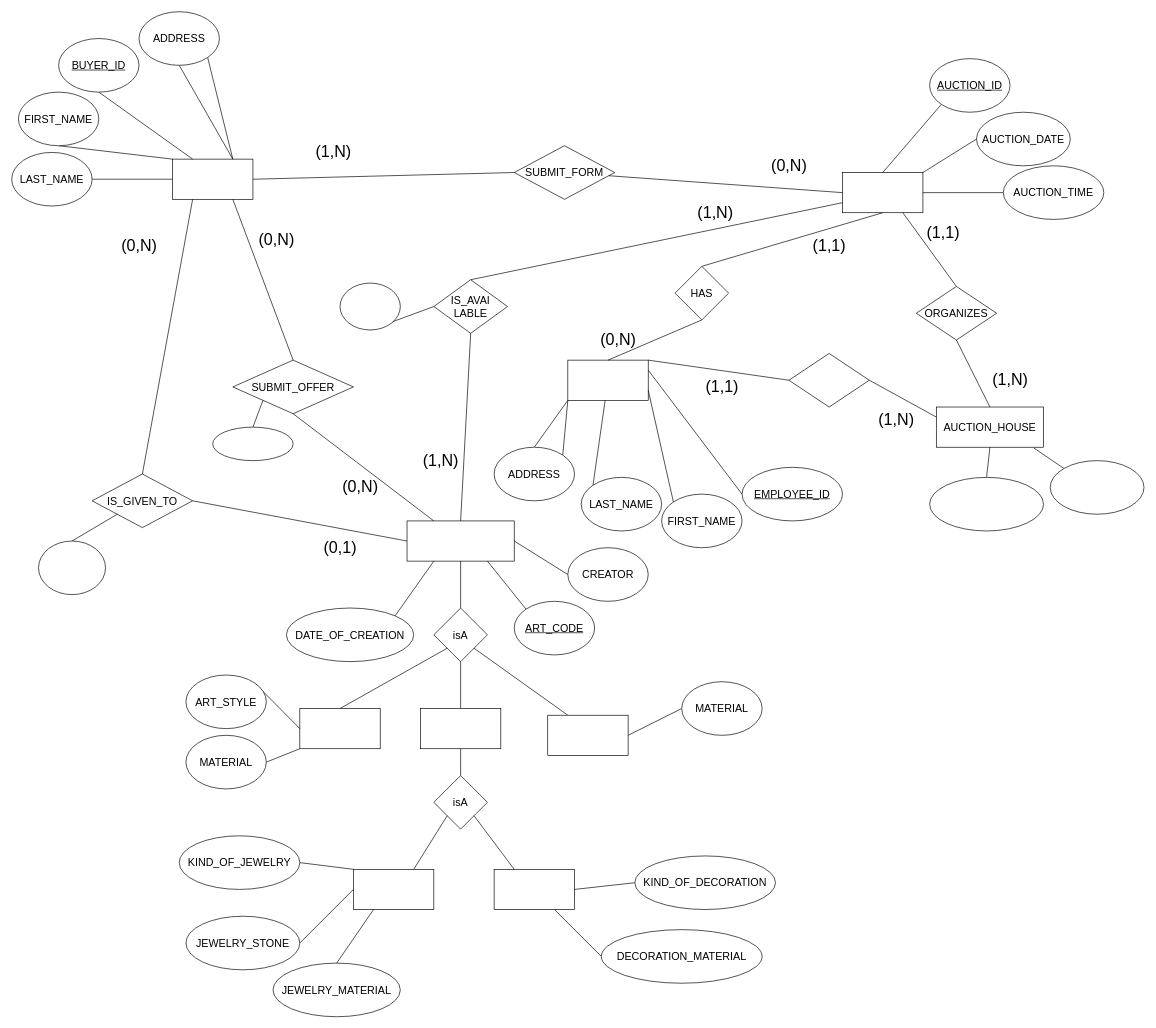
The diagram is 1156 pixels wide and 1028 high, and some of its shapes have lost their labels. The shapes that lost their labels are listed below. From the top down, each one's centre as x and y in pixels, then its label:
pixel 212 178: BUYER
pixel 882 192: AUCTION
pixel 369 306: INITIAL_ VALUE
pixel 607 379: EMPLOYEE
pixel 828 380: WORKS_ FOR
pixel 252 443: PRICE_OFFER
pixel 986 504: AUCTION_HOUSE_ NAME
pixel 1097 487: AUTION_HOUSE _ID
pixel 460 540: WORKS_OF_ART
pixel 72 567: HIGHEST_ PRICE
pixel 339 728: PAINTINGS
pixel 460 728: OTHER
pixel 587 735: SCULPTURES
pixel 393 889: JEWELRY
pixel 534 889: DECORATION
